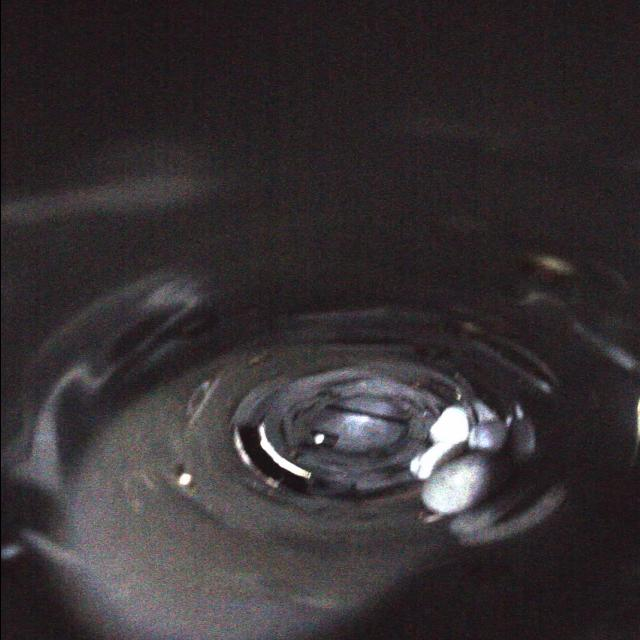hole: (231, 423, 312, 499)
